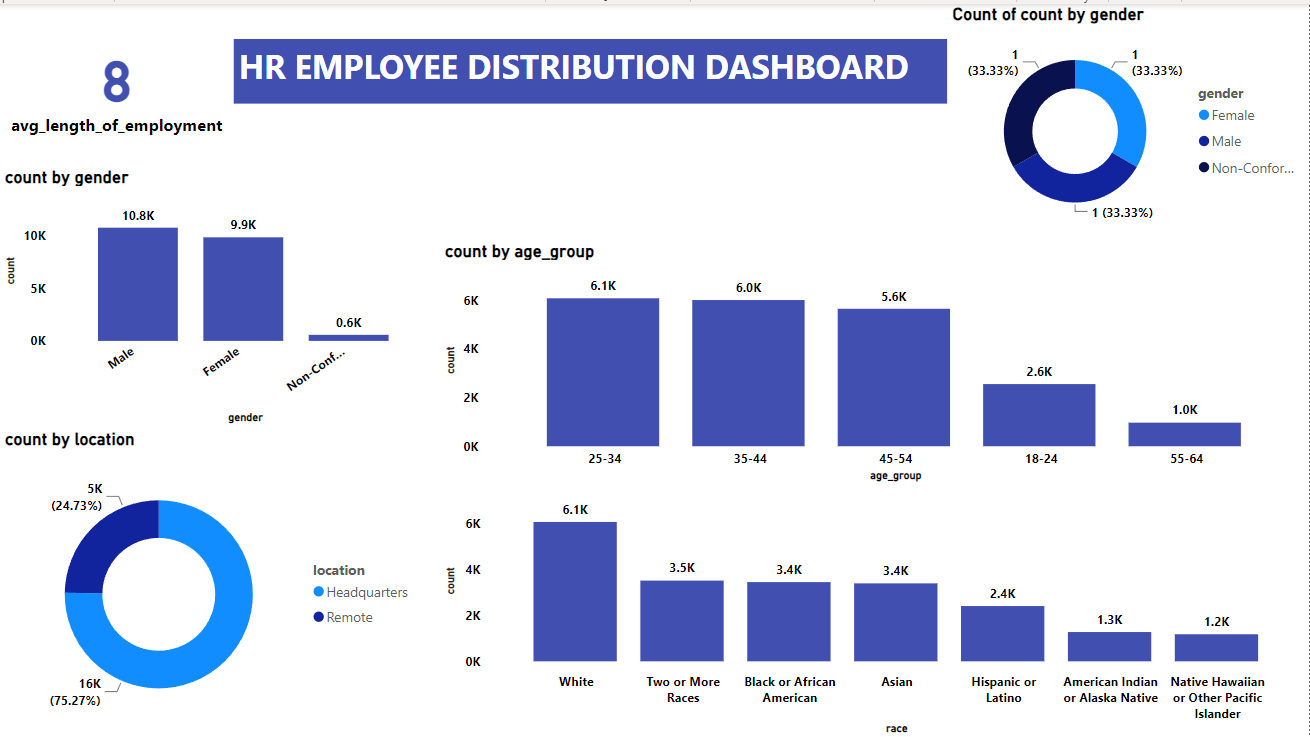

This screenshot's page, from the dashboard's own definition file:
{"tool":"powerbi","page":{"name":"HR Emp rprt","canvas":[1280,720],"ordinal":0},"visuals":[{"type":"donutChart","fields":{"Category":["gender-HR.gender"],"Y":["CountNonNull(gender-HR.count)"]},"box":[926,0,354,230.2],"z":0},{"type":"columnChart","fields":{"Category":["RACE-HR.race"],"Y":["Sum(RACE-HR.count)"]},"box":[430.8,452.7,849.2,267.5],"z":1},{"type":"clusteredColumnChart","fields":{"Category":["Age3 - question.age_group","Age3 - question.gender"],"Y":["Sum(Age3 - question.count)"]},"box":[430.8,230.5,849.2,241.5],"z":2},{"type":"donutChart","fields":{"Category":["empLOcationCount.location"],"Y":["Sum(empLOcationCount.count)"]},"box":[0,415.7,412.9,304.6],"z":3},{"type":"card","fields":{"Values":["Sum(LengthOfemp.avg_length_of_employment)"]},"box":[0,0,228.8,158.8],"z":4},{"type":"clusteredColumnChart","fields":{"Category":["GenderDistbution question-5.gender"],"Y":["Sum(GenderDistbution question-5.count)"]},"box":[0,159.1,430.8,256.5],"z":5},{"type":"textbox","box":[228.8,33.6,697.2,63.3],"z":6}]}

Visuals, with their boxes in screenshot pixels (x1, y1, x2, y2), scaled from the page's 1280x720 canvas onto the 1310x737 screenshot:
donutChart - gender-HR.gender x CountNonNull(gender-HR.count): (948, 0, 1309, 236)
columnChart - RACE-HR.race x Sum(RACE-HR.count): (441, 463, 1309, 736)
clusteredColumnChart - Age3 - question.age_group x Age3 - question.gender: (441, 236, 1309, 483)
donutChart - empLOcationCount.location x Sum(empLOcationCount.count): (0, 426, 423, 736)
card - Sum(LengthOfemp.avg_length_of_employment): (0, 0, 234, 163)
clusteredColumnChart - GenderDistbution question-5.gender x Sum(GenderDistbution question-5.count): (0, 163, 441, 425)
textbox: (234, 34, 948, 99)
